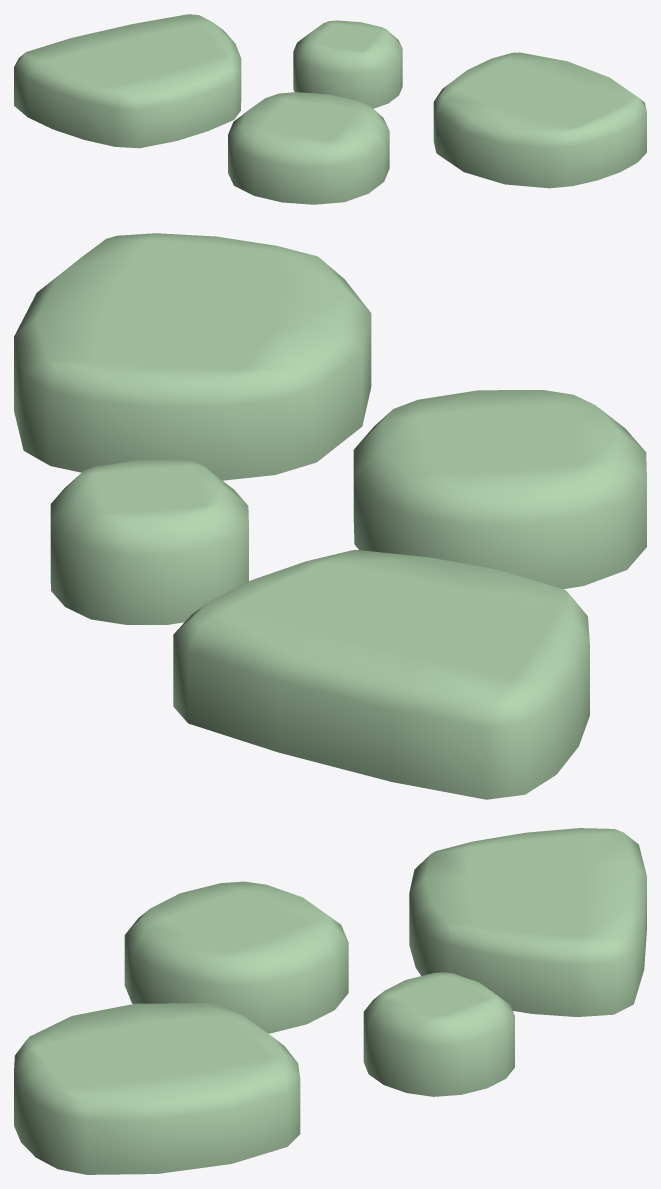
File: cobblestones.glb
The picture shows the model from 3 angles, top to bottom: view 1: azimuth 30°, elevation 25°; view 2: azimuth 150°, elevation 25°; view 3: azimuth 270°, elevation 25°; orthographic projection. The views are drawn at different scales.
Visible parts, largest first — view 1: cobblestones_rocks; view 2: cobblestones_rocks; view 3: cobblestones_rocks.
Part boxes in pixels (x1,y1,x2,y2): cobblestones_rocks: [14, 14, 646, 204]; cobblestones_rocks: [14, 233, 646, 799]; cobblestones_rocks: [14, 828, 646, 1174].
Size of the model in its own units: 1.79 by 0.1988 by 1.66.
